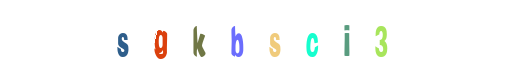3: (274, 0, 354, 80)
B: (211, 0, 291, 80)
C: (225, 0, 305, 80)
G: (121, 0, 201, 80)
I: (272, 0, 352, 80)
K: (192, 0, 272, 80)
S: (82, 0, 162, 80), (214, 0, 294, 80)
